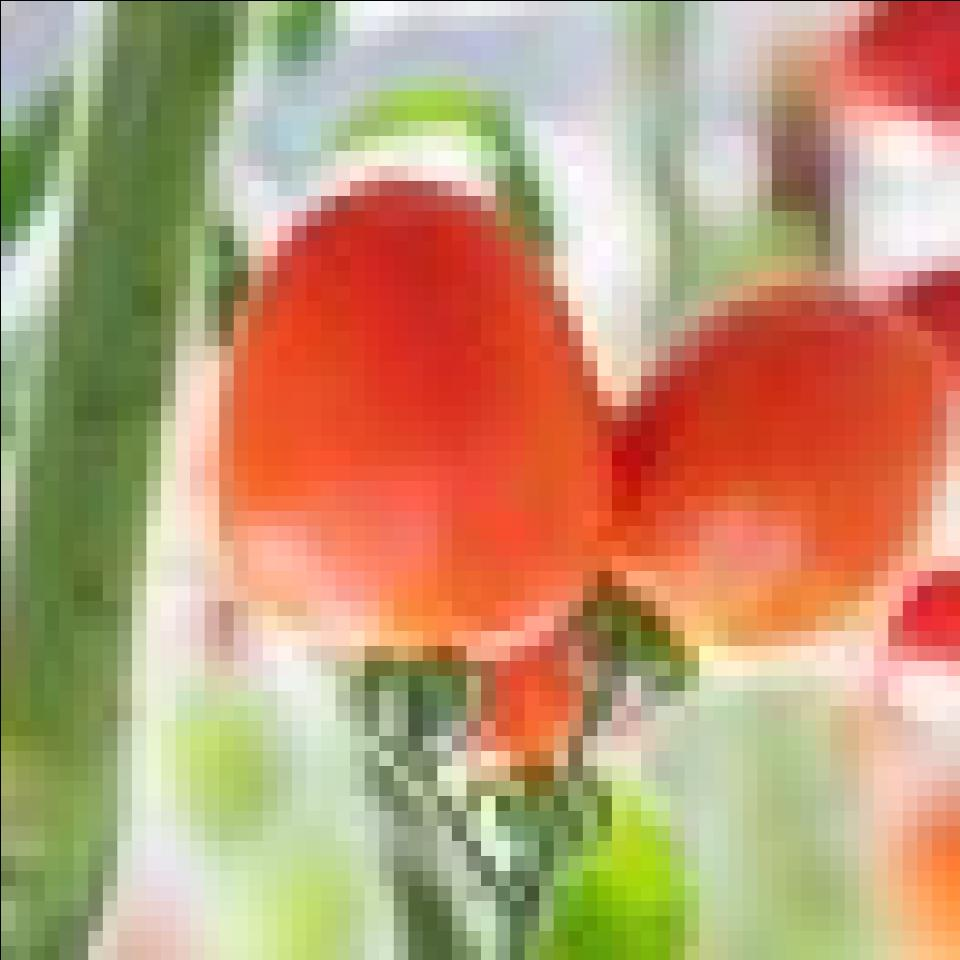Healthy: (206, 197, 605, 663), (621, 260, 949, 712)
